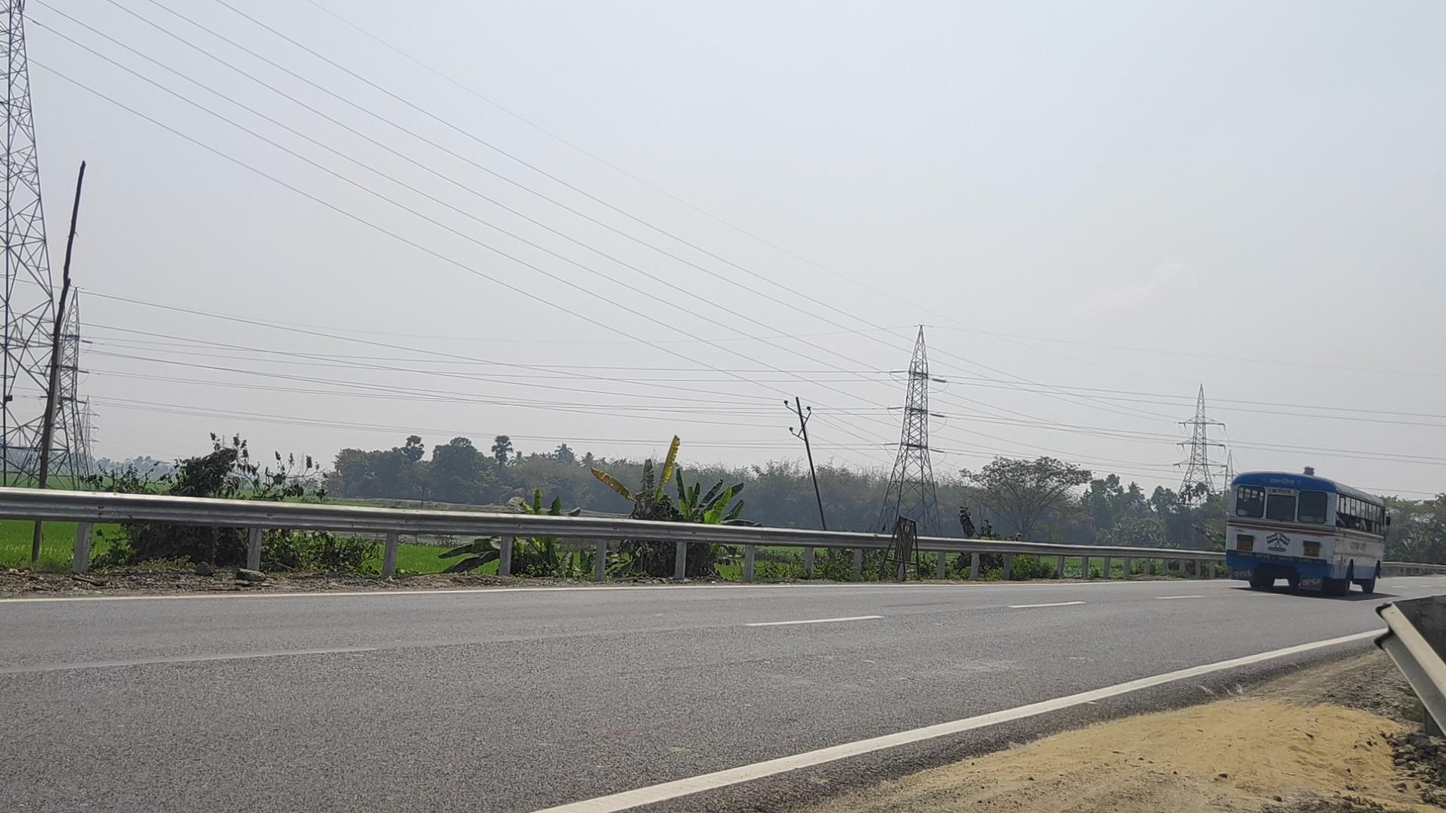Bus: (1225, 471, 1391, 596)
